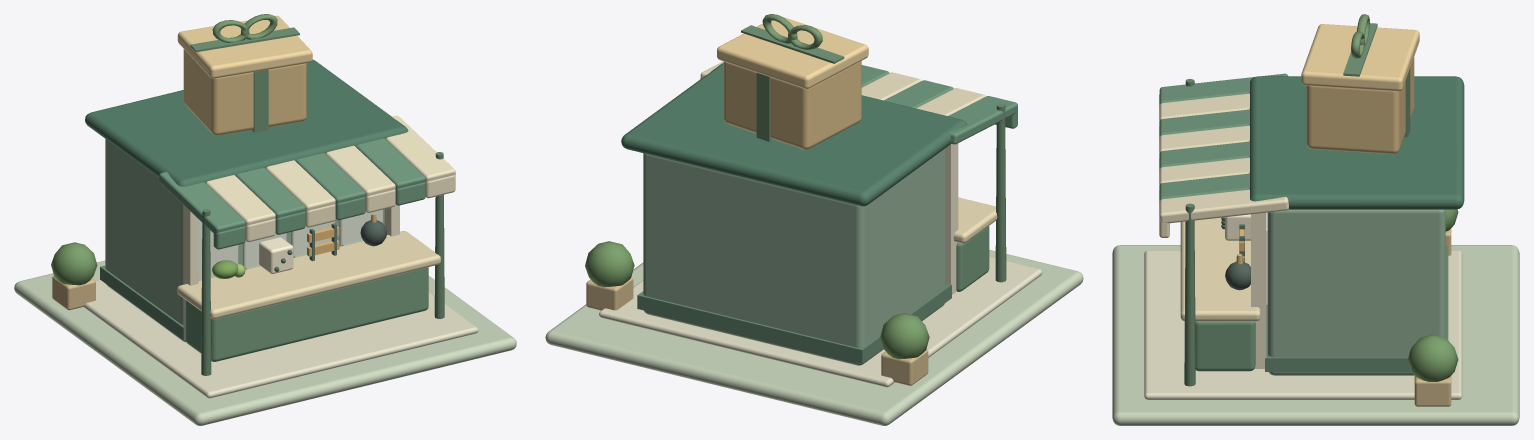
File: item-supply.glb
3 renders of one model, left to right at view 1: azimuth 30°, elevation 25°; view 2: azimuth 150°, elevation 25°; view 3: azimuth 270°, elevation 25°, orthographic. The views are drawn at different scales.
Parts seen in each view (by area): view 1: 旅途道具补给站; view 2: 旅途道具补给站; view 3: 旅途道具补给站.
Boxes of the visible parts, left/top/right/bottom form: 旅途道具补给站: left=14, top=14, right=516, bottom=425; 旅途道具补给站: left=545, top=14, right=1083, bottom=425; 旅途道具补给站: left=1112, top=14, right=1519, bottom=425.
Bounding box in the file's own units: 3.2 × 2.75 × 3.2.
